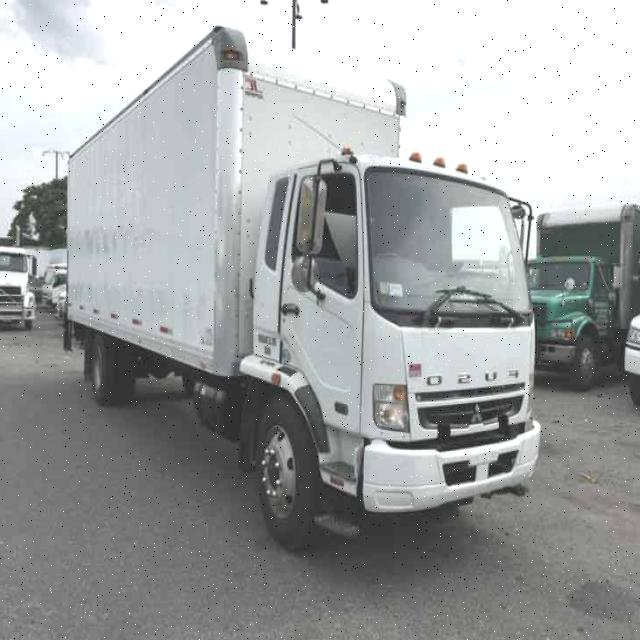truck: (68, 25, 542, 542)
